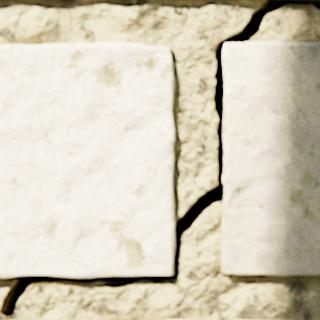brick: (0, 42, 175, 277), (221, 41, 319, 275), (237, 318, 287, 319), (167, 318, 189, 319)
crack: (0, 0, 319, 319)
